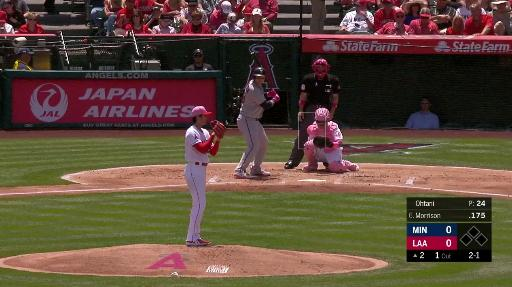pitcher: (184, 106, 225, 247)
